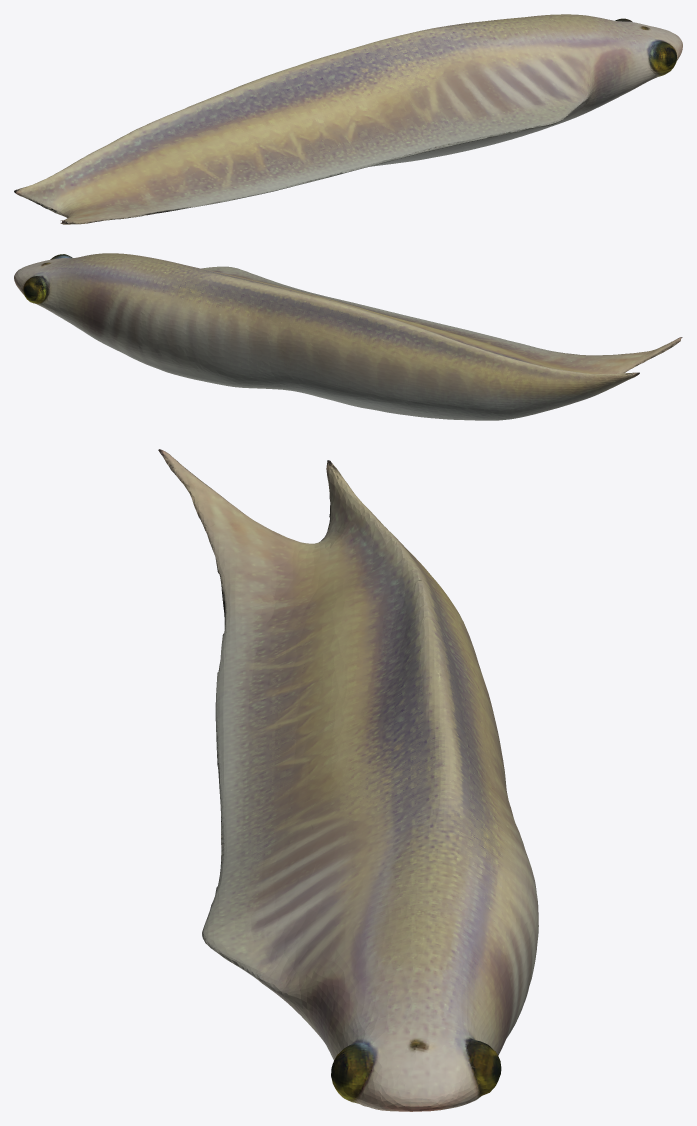
The picture shows the model from 3 angles, top to bottom: view 1: azimuth 30°, elevation 25°; view 2: azimuth 150°, elevation 25°; view 3: azimuth 270°, elevation 25°; orthographic projection. The views are drawn at different scales.
Visible parts, largest first — view 1: world; view 2: world; view 3: world.
Part boxes in pixels (x1=…): world: x1=14, y1=14, x2=682, y2=224; world: x1=14, y1=253, x2=682, y2=420; world: x1=158, y1=449, x2=538, y2=1111.
Bounding box in the file's own units: 1 × 0.167 × 0.2745.
Materials: 1 (1 with a texture image).
